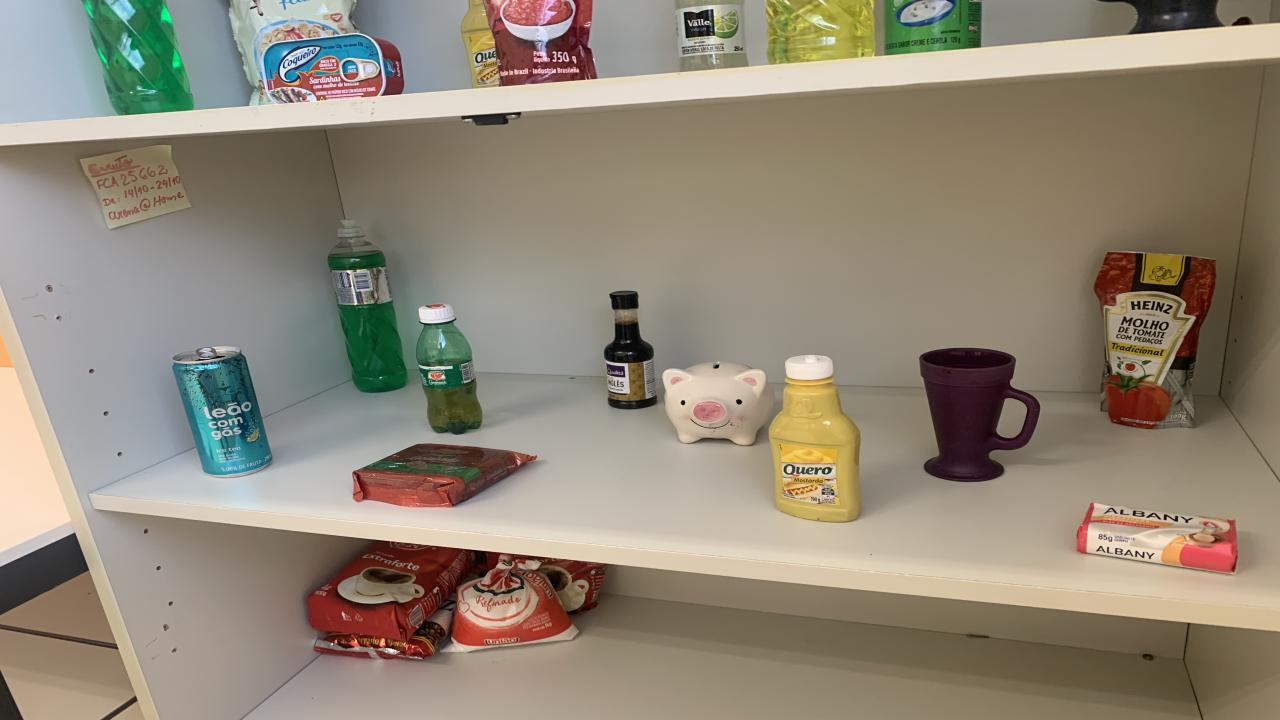Detergent-Cleanup_Items: (328, 219, 408, 392), (82, 0, 192, 114), (765, 0, 875, 64)
English_Sauce-Pantry_Items: (605, 291, 658, 409)
Flakes-Snacks: (230, 0, 358, 105)
Guarana-Drinks: (415, 304, 482, 433)
Guava-Snacks: (352, 444, 535, 508)
Mustard-Pantry_Items: (770, 354, 860, 521), (460, 0, 500, 88)
Pig_Safe-Miscellaneous: (662, 362, 775, 444)
Pringles-Snacks: (885, 0, 982, 54)
Soap-Cleanup_Items: (1078, 502, 1238, 574)
Soda-Drinks: (675, 0, 748, 71)
Tea-Drinks: (172, 347, 272, 478)
Tomato_Sauce-Pantry_Items: (1095, 251, 1215, 429), (485, 0, 598, 86)
Tuna_Can-Pantry_Items: (260, 34, 402, 103)
